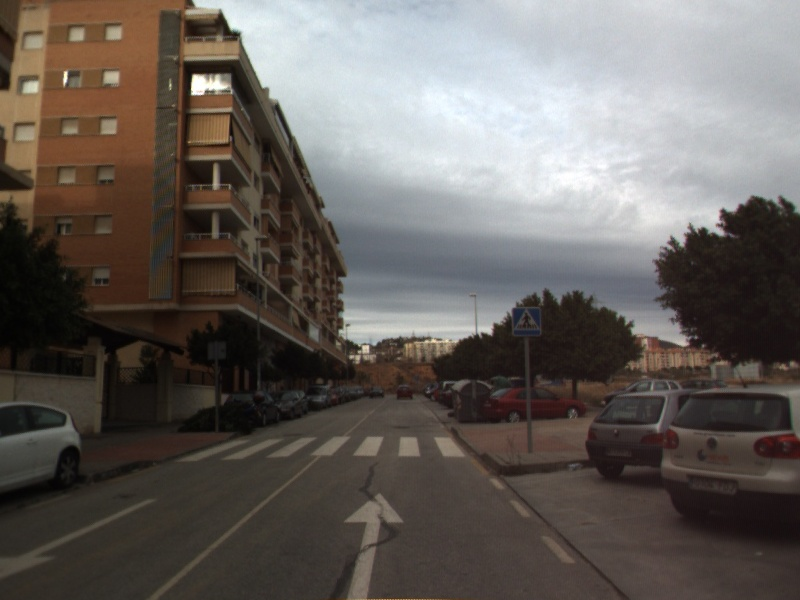STRAIGHT: (341, 490, 407, 600)
